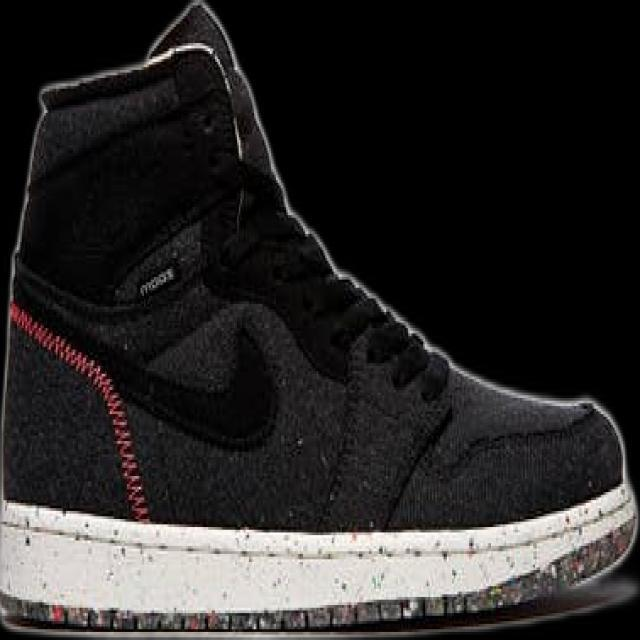J1_ShoeLogo: (0, 0, 637, 634), (136, 264, 177, 298)
J1_StitchPattern: (8, 293, 451, 525), (2, 487, 636, 630), (3, 576, 634, 632), (7, 298, 152, 521), (319, 318, 451, 527), (9, 303, 121, 401)
